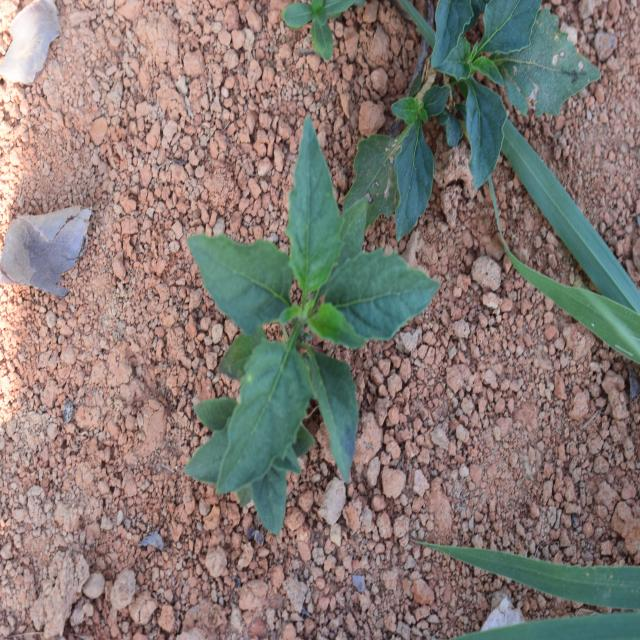Black_nightshade: (193, 145, 416, 520), (362, 0, 595, 204)
